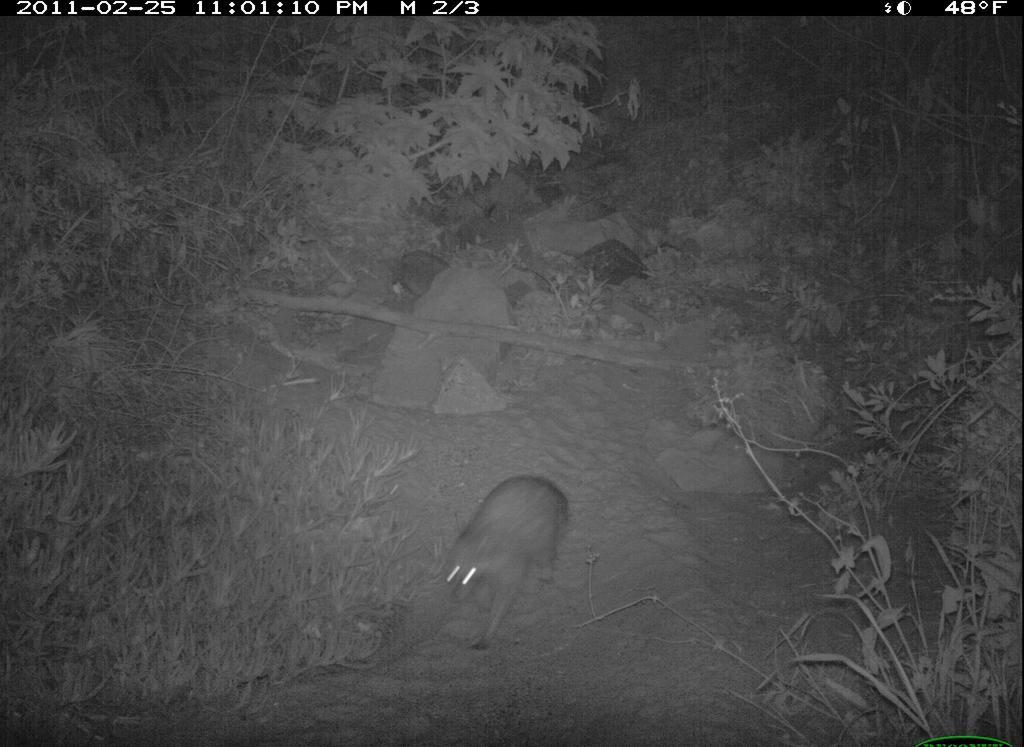raccoon: (436, 466, 574, 656)
